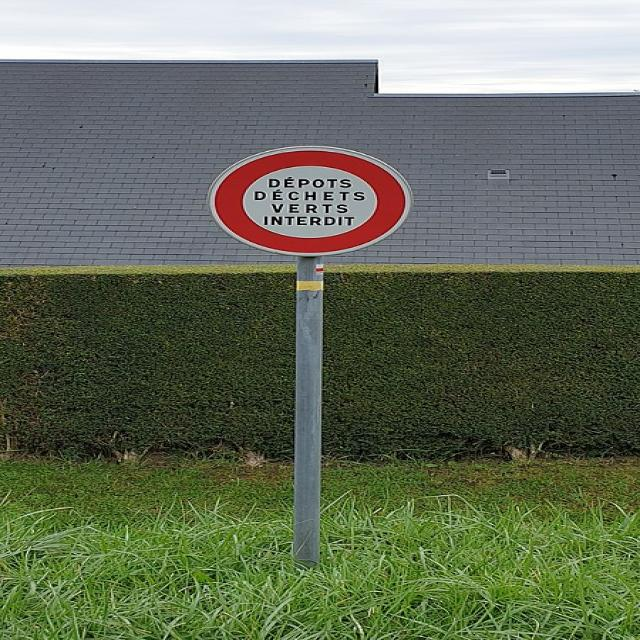forbidden: (214, 144, 411, 256)
